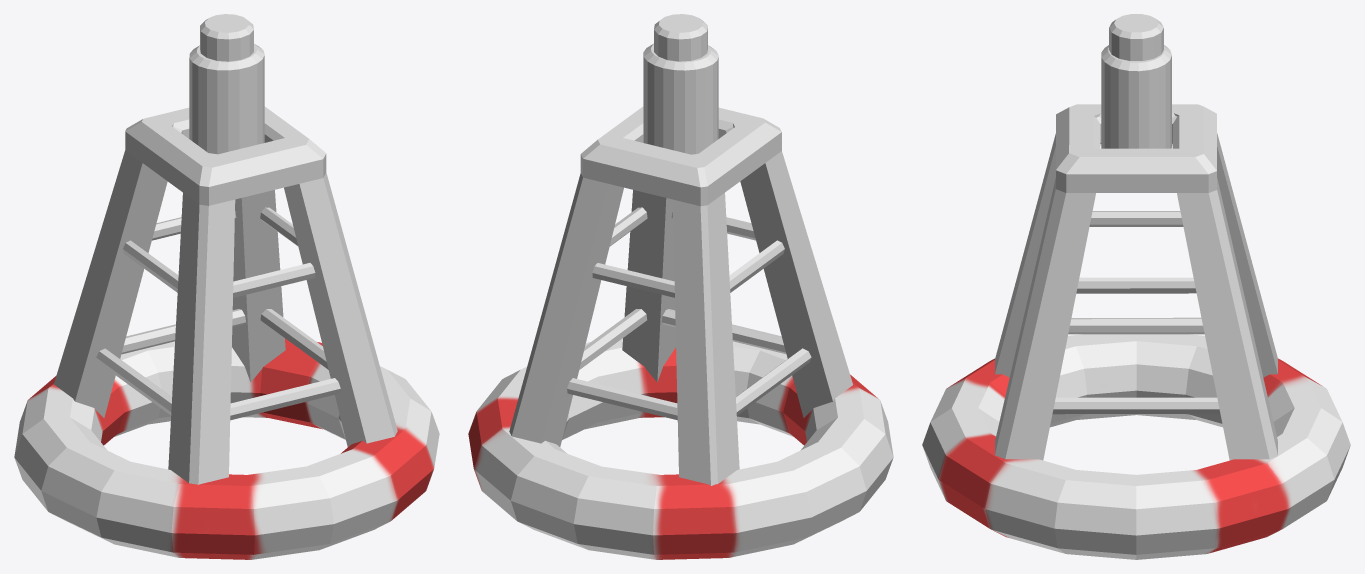
The model's file is Buoy.fbx.
The picture shows the model from 3 angles, left to right: view 1: azimuth 30°, elevation 25°; view 2: azimuth 150°, elevation 25°; view 3: azimuth 270°, elevation 25°; orthographic projection.
Parts seen in each view (by area): view 1: BuoyMetalBase, BuoyBase, TopCylinder, MetalConnector.001, MetalConnector, Light; view 2: BuoyMetalBase, BuoyBase, TopCylinder, MetalConnector.001, MetalConnector, Light; view 3: BuoyBase, BuoyMetalBase, TopCylinder, MetalConnector.001, MetalConnector, Light.
Boxes of the visible parts, bbox=[...] form: BuoyMetalBase: bbox=[54, 106, 397, 484]; BuoyBase: bbox=[14, 338, 439, 559]; TopCylinder: bbox=[189, 43, 264, 154]; MetalConnector.001: bbox=[96, 309, 340, 420]; MetalConnector: bbox=[123, 207, 315, 297]; Light: bbox=[200, 14, 253, 61]; BuoyMetalBase: bbox=[509, 106, 852, 485]; BuoyBase: bbox=[468, 338, 893, 559]; TopCylinder: bbox=[643, 43, 718, 154]; MetalConnector.001: bbox=[567, 309, 811, 420]; MetalConnector: bbox=[592, 207, 784, 297]; Light: bbox=[654, 14, 707, 61]; BuoyBase: bbox=[922, 334, 1350, 559]; BuoyMetalBase: bbox=[995, 104, 1277, 460]; TopCylinder: bbox=[1101, 45, 1171, 148]; MetalConnector.001: bbox=[1052, 317, 1220, 414]; MetalConnector: bbox=[1076, 211, 1196, 293]; Light: bbox=[1109, 14, 1163, 60].
Size of the model in its own units: 250 by 295 by 250.
1 material, 1 textured.
